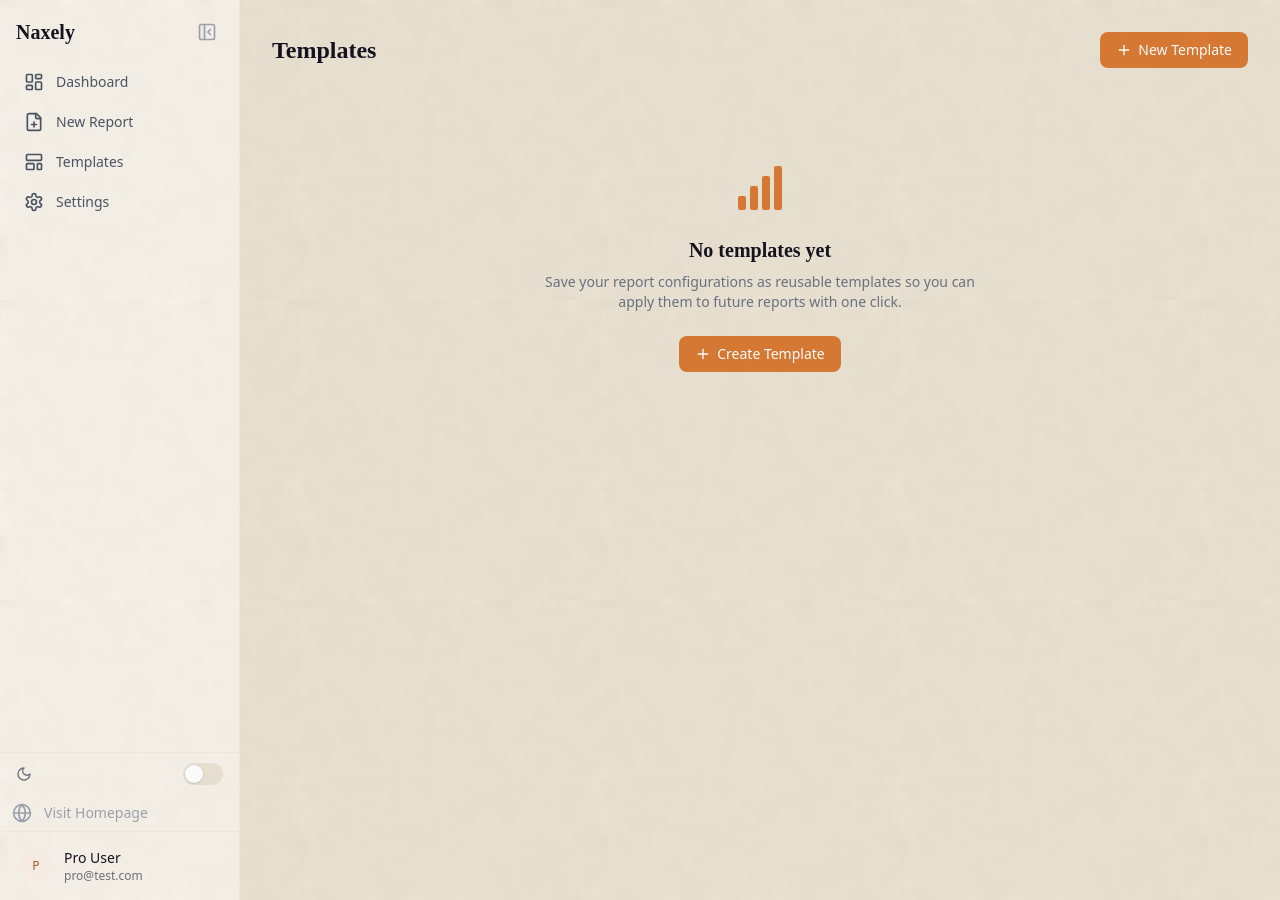
Test: Templates › opens create form modal on New Template click
This screenshot has width=1280, height=900.
Expected: the heading "No templates yet" is shown, 689,236 -> 831,264
Click the button "Create Template" at (760, 354), box 679,336 -> 841,372
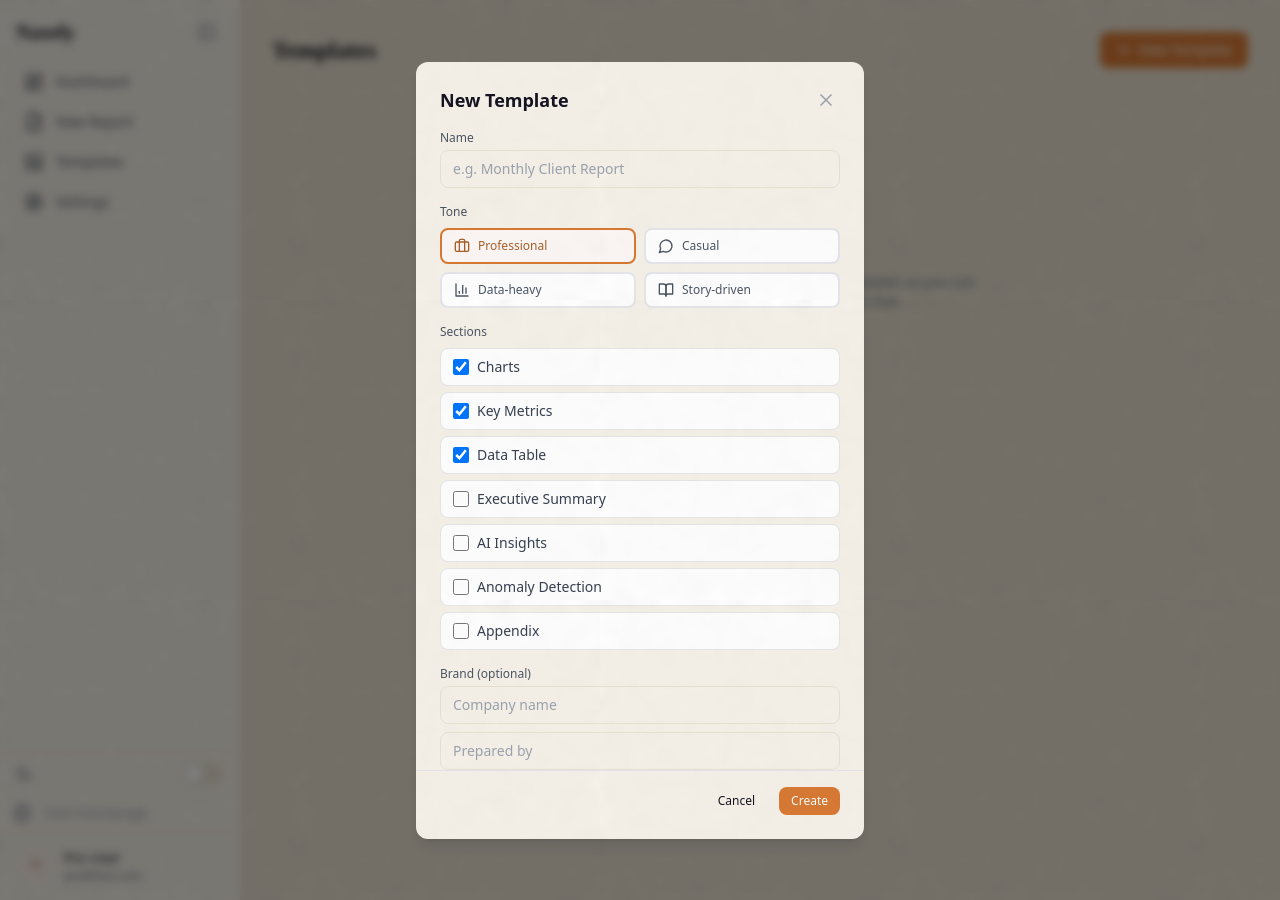
Expected: the heading "New Template" is shown, 440,86 -> 569,114
Expected: the field with placeholder "e.g. Monthly Client Report" is shown, 440,150 -> 840,188
